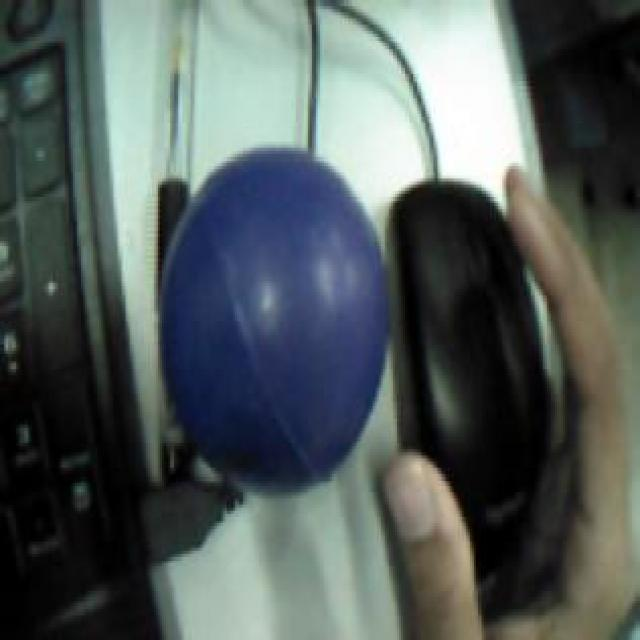BallPurple: (162, 147, 388, 487)
